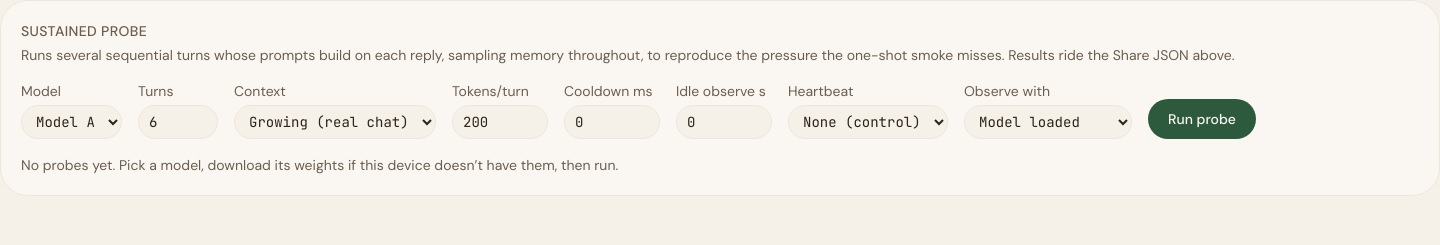
Test: SustainedProbePanel — context + tokens controls › clamps an out-of-range tokens/turn value on blur, not per keystroke
The width and height of the screenshot is (1440, 245).
Replace the text in the number field labelled "Tokens/turn" with "9999" at point(500, 122), box left=452, top=105, right=548, bottom=139
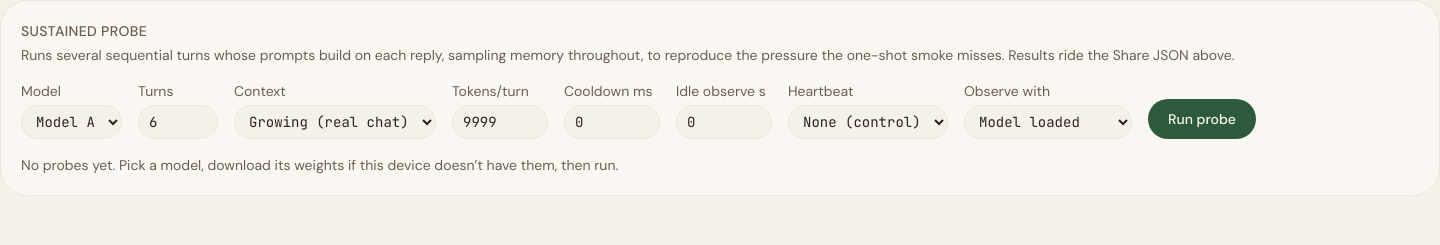
Leave the number field labelled "Tokens/turn", box left=452, top=105, right=548, bottom=139
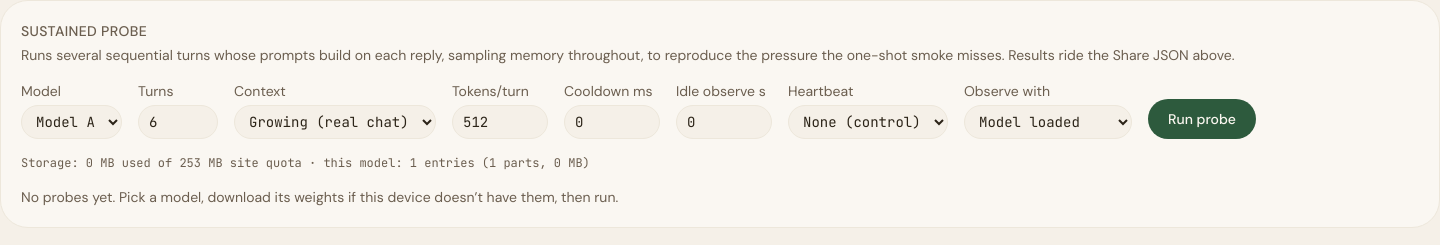
Expected: the number field labelled "Tokens/turn" holds "512", left=452, top=105, right=548, bottom=139
